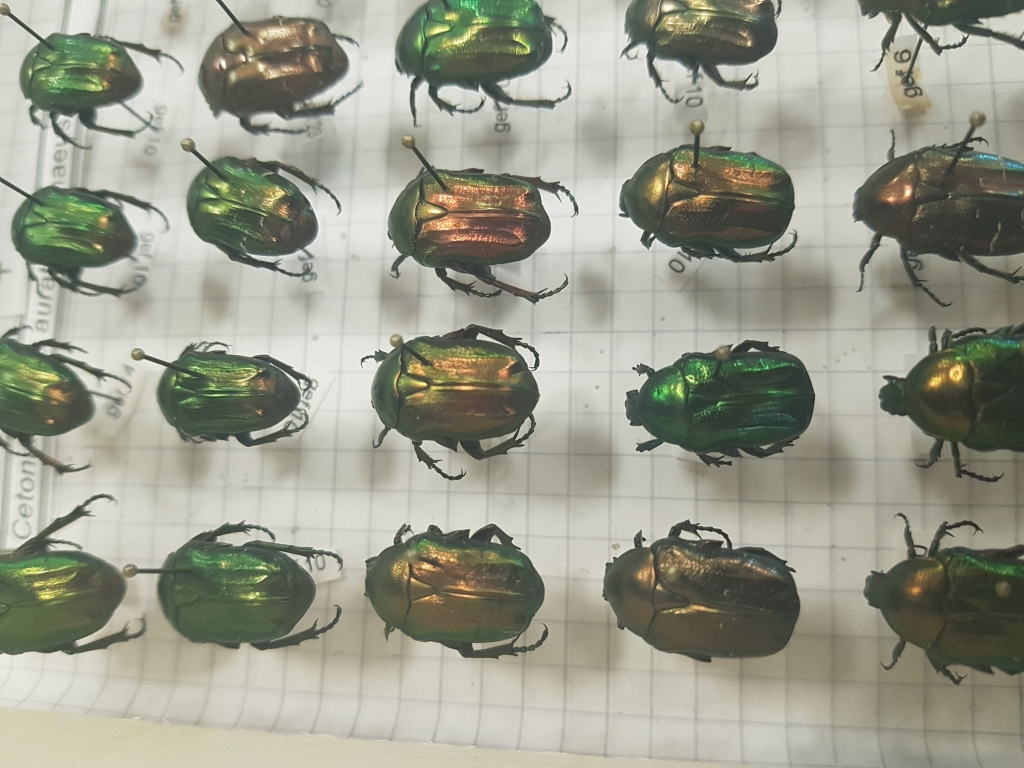Cetonia_aurata: (854, 120, 1024, 309), (347, 317, 548, 470), (605, 515, 806, 667), (620, 328, 814, 481), (358, 520, 560, 666), (381, 160, 577, 305), (146, 516, 350, 652), (870, 503, 1024, 674), (870, 320, 1024, 487), (614, 139, 802, 275), (1, 488, 138, 660), (1, 313, 132, 486), (388, 1, 564, 127), (196, 10, 371, 132), (180, 150, 342, 280), (10, 28, 175, 146), (5, 181, 167, 300), (154, 331, 315, 441), (614, 1, 781, 105)
